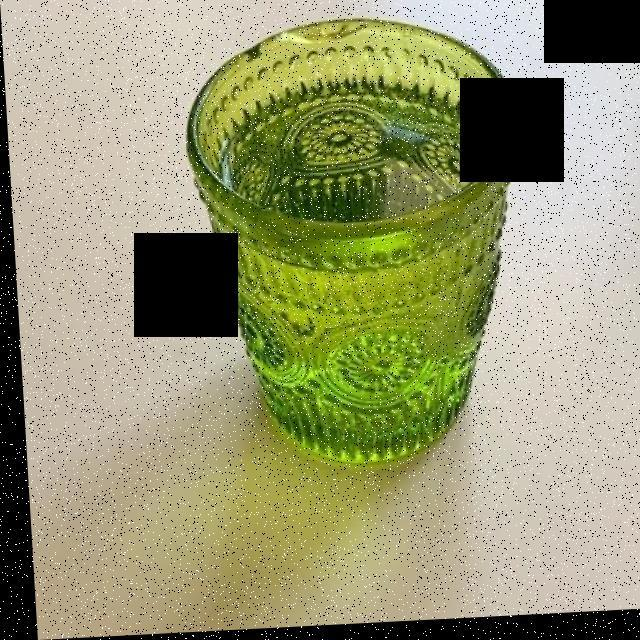water: (210, 76, 505, 484)
